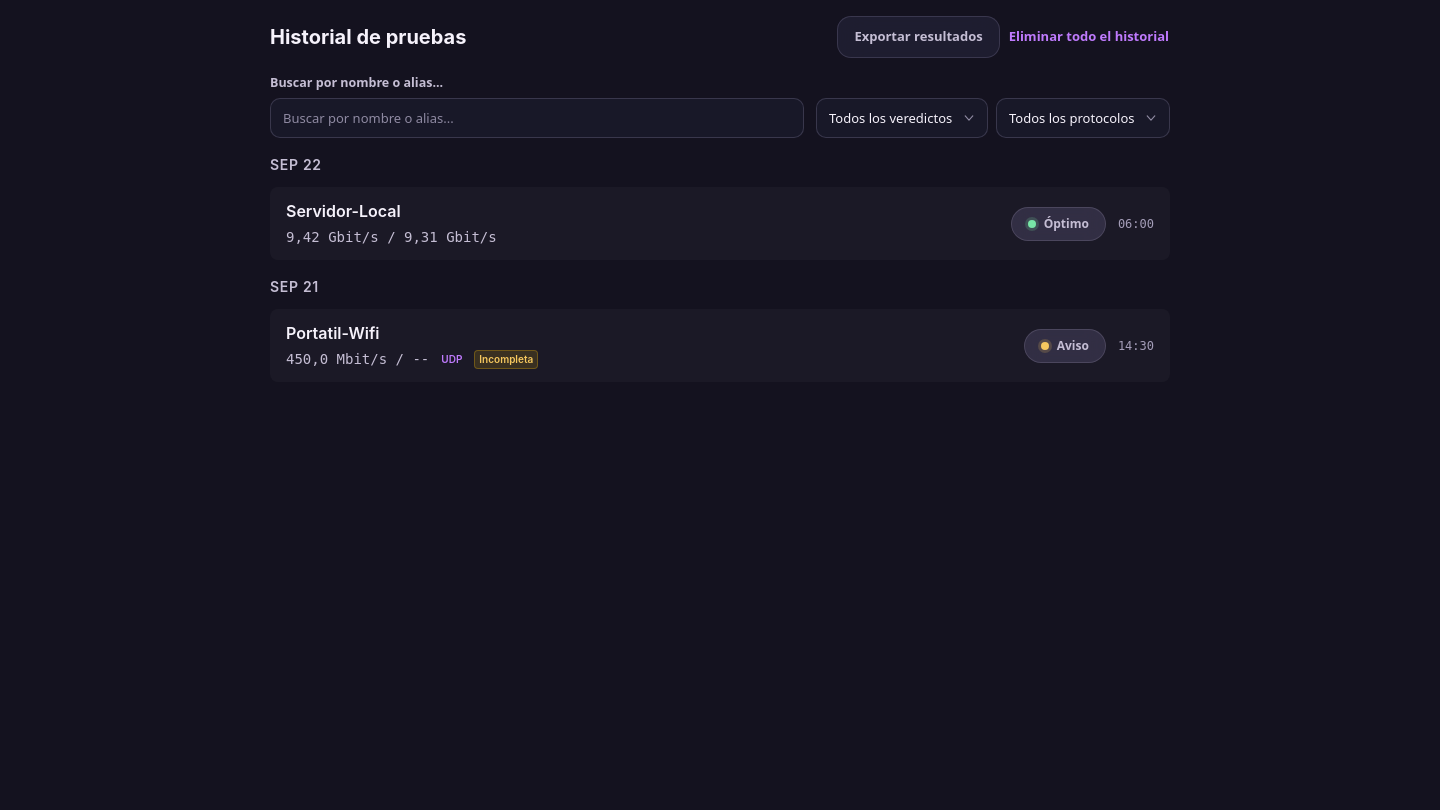
Scenario: T079 - HistoryScreen UI Component Tests (US4) › permite solicitar el borrado de todo el historial y muestra diálogo de confirmación
What coordinates should you click on to do the following:
click the button "Eliminar todo el historial"
I would click on:
 (1089, 37)
Its box is [1008, 26, 1170, 48].
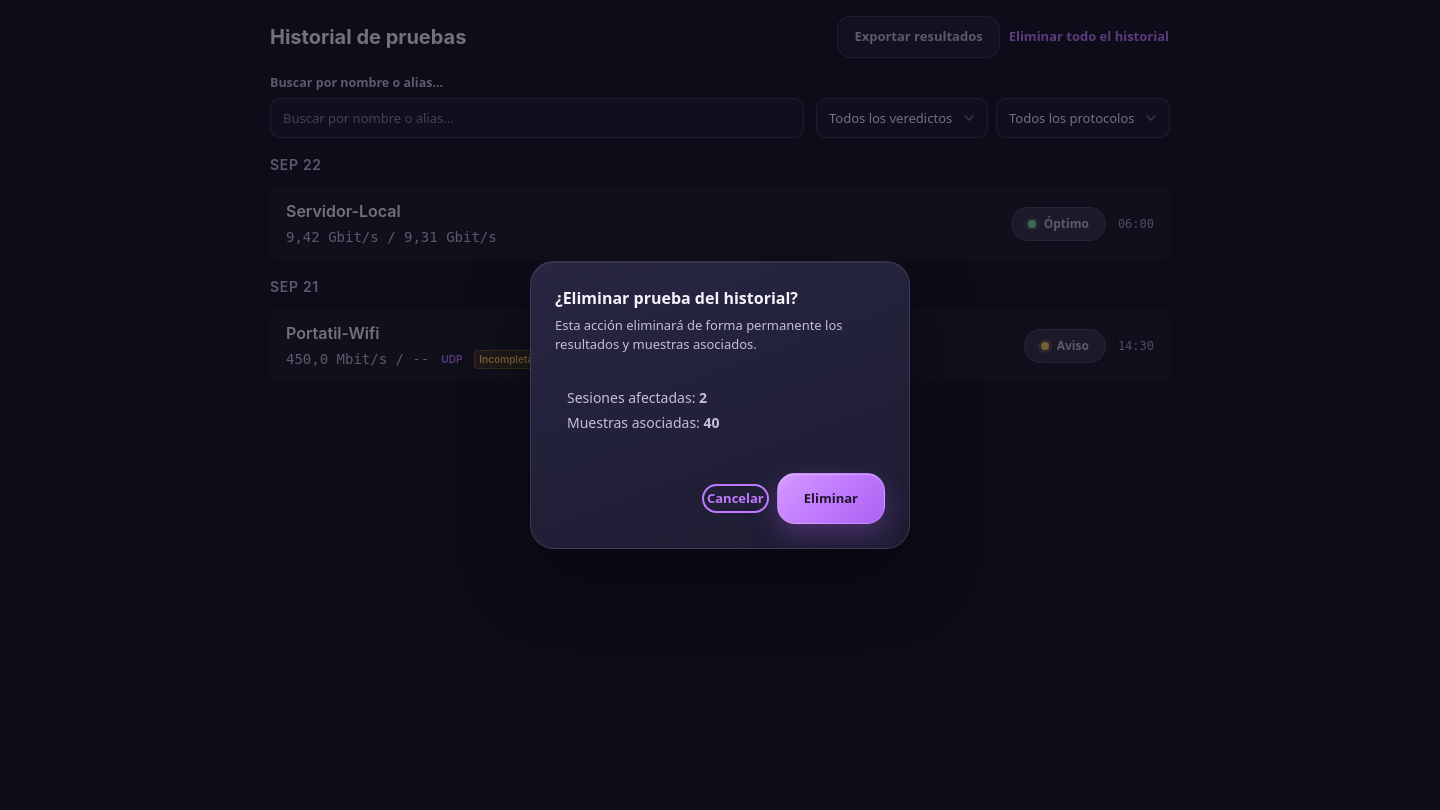
Expected: the heading "¿Eliminar prueba del historial?" is shown, [555, 287, 798, 309]
Expected: the text "40" is shown, [704, 413, 720, 432]
